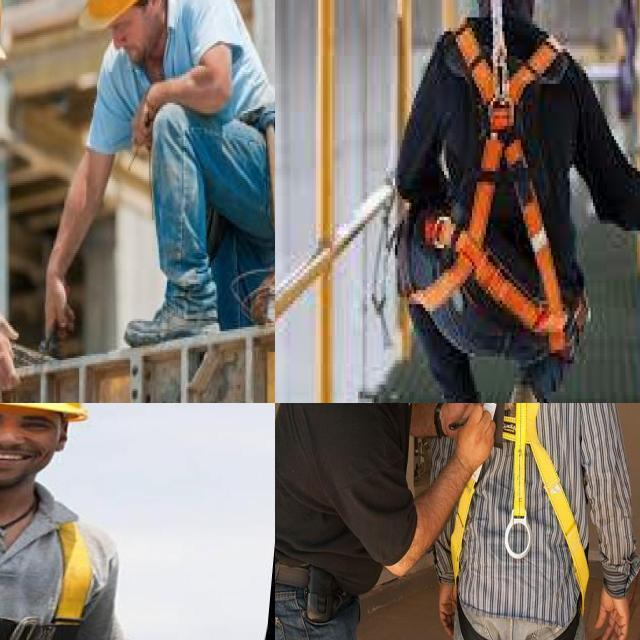Harness: (444, 14, 568, 341), (504, 403, 590, 606), (0, 522, 93, 640)
No_Ear-Protection: (86, 0, 169, 70)
